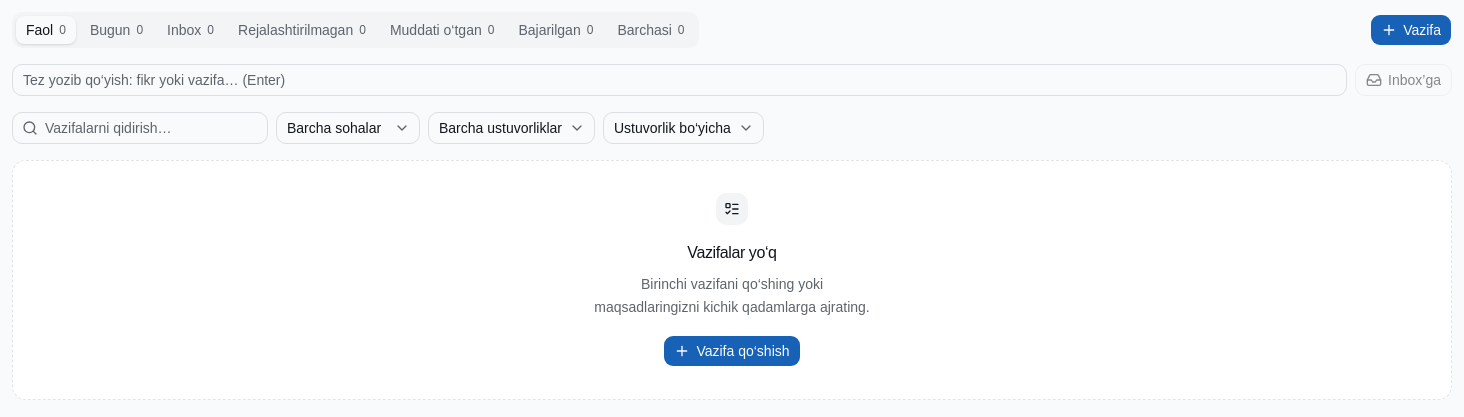
Test: TasksPage › filters by search text and offers to clear filters
The image size is (1464, 417).
Type "Birinchi" into the field named "Inbox’ga yangi vazifa" at (680,80), box [12, 64, 1347, 96]
Then press Enter
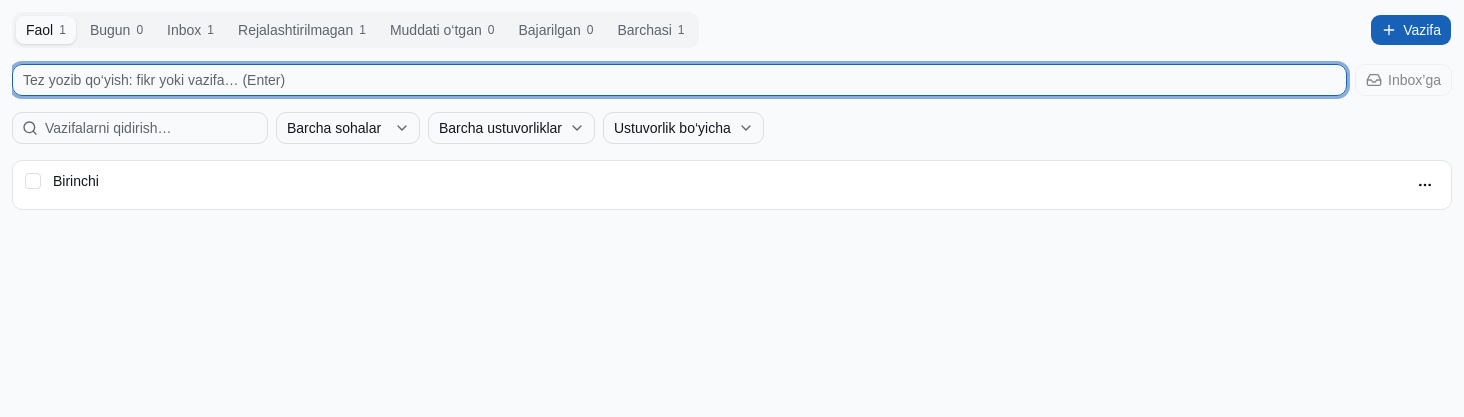
Type "mavjud emas" into the search field labelled "qidirish" at (140,128), box [12, 112, 268, 144]
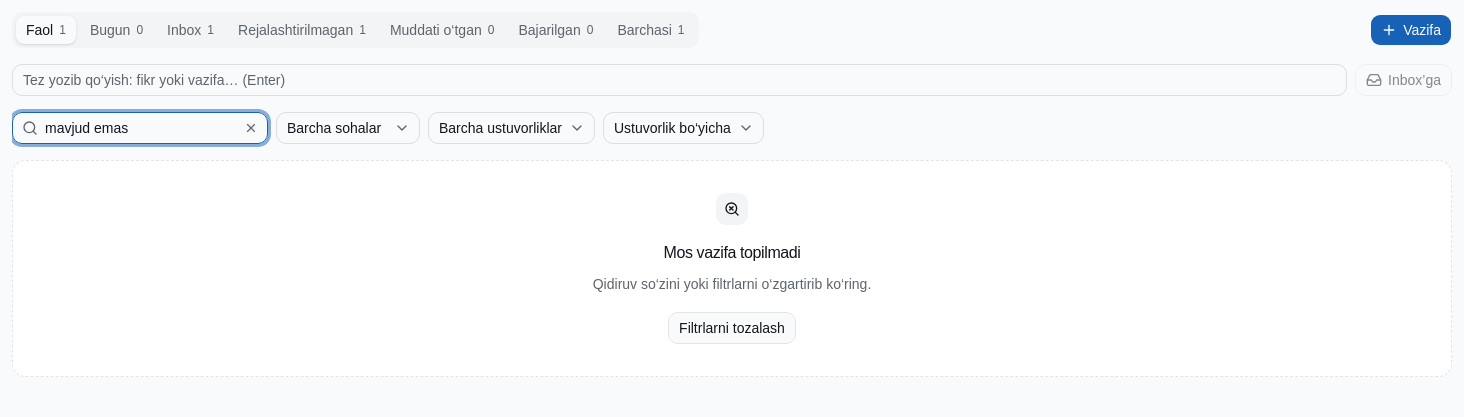
Expected: the text "Mos vazifa topilmadi" is shown, [664, 241, 800, 265]
Click the button "Filtrlarni tozalash" at (732,328), box [668, 312, 796, 344]
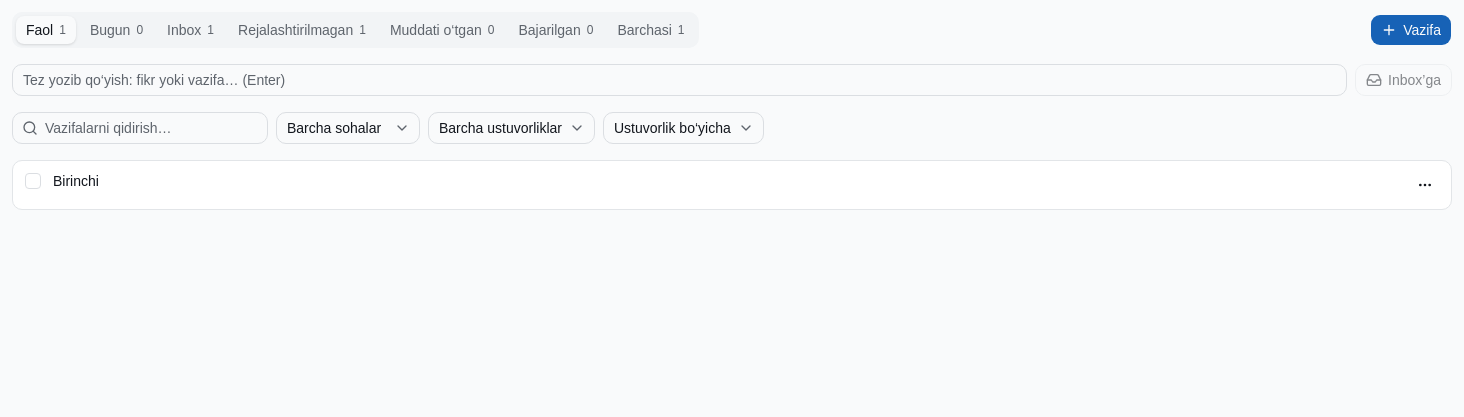
Expected: the button "Birinchi" is shown, [53, 171, 99, 191]
